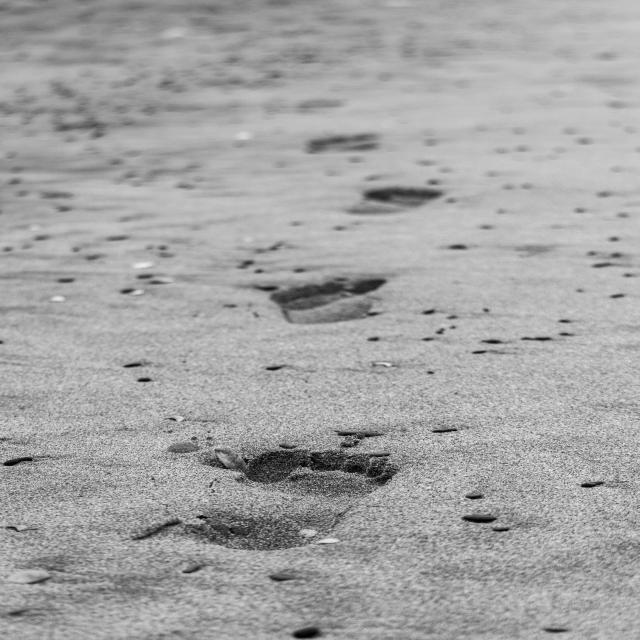human_footprint: (163, 198, 463, 606)
